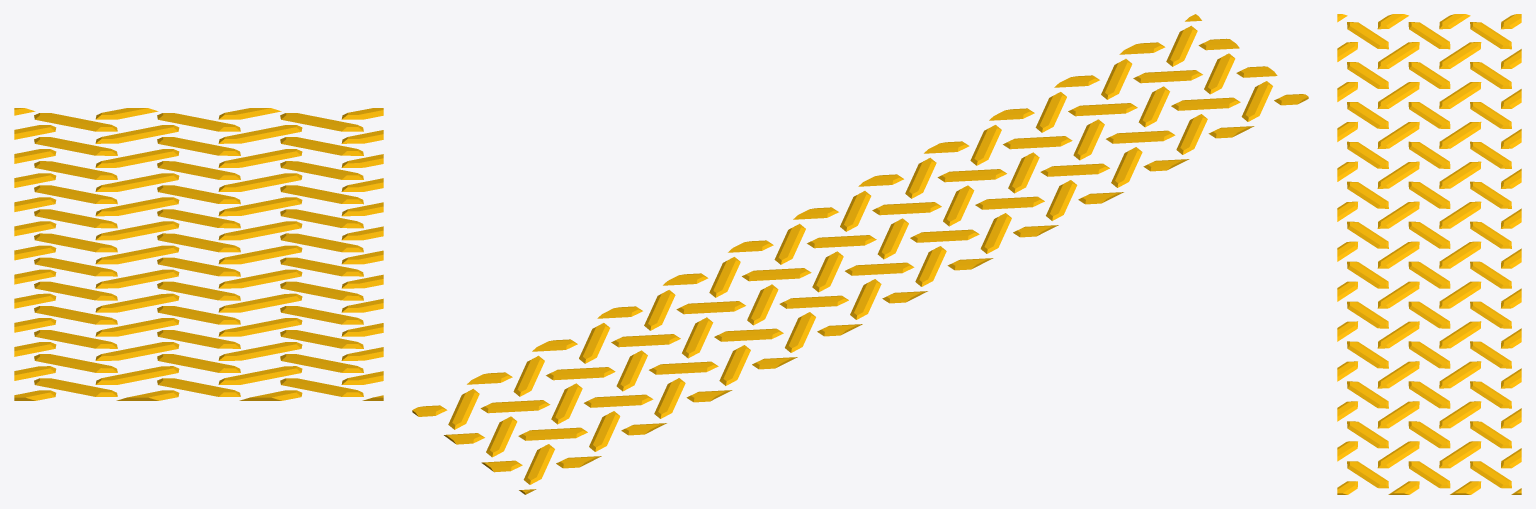
The model's file is sp_grip_metal_angled_1x4.dae.
3 renders of one model, left to right at view 1: azimuth 90°, elevation 25°; view 2: azimuth 210°, elevation 25°; view 3: azimuth 270°, elevation 25°, orthographic. The views are drawn at different scales.
Parts seen in each view (by area): view 1: grip_metal_angled_1x4; view 2: grip_metal_angled_1x4; view 3: grip_metal_angled_1x4.
Part boxes in pixels (x1,y1,x2,y2): grip_metal_angled_1x4: (14, 108, 383, 400); grip_metal_angled_1x4: (412, 14, 1308, 494); grip_metal_angled_1x4: (1337, 14, 1521, 494).
Size of the model in its own units: 1 by 0.25 by 0.2525.
